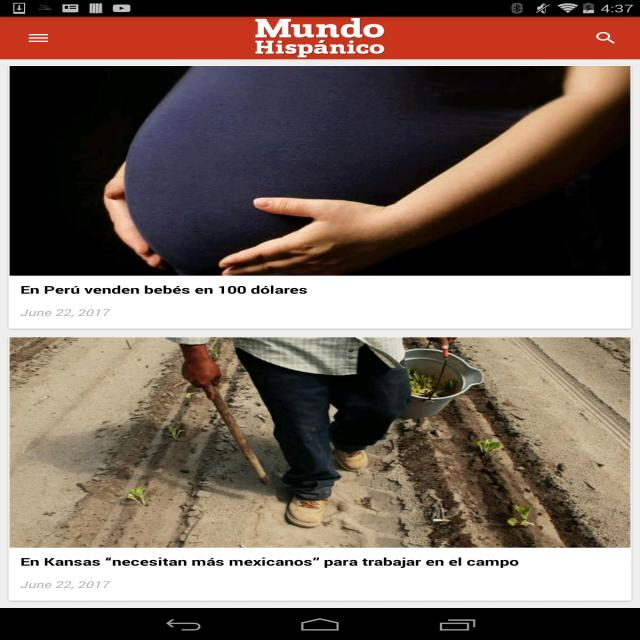button: (11, 63, 630, 328), (10, 336, 632, 599), (24, 28, 54, 47), (595, 28, 620, 48)
heading: (250, 17, 390, 59)
image: (11, 65, 630, 276), (11, 338, 629, 548)
text: (19, 556, 520, 570), (21, 284, 312, 299), (18, 578, 112, 591), (16, 306, 110, 318)
